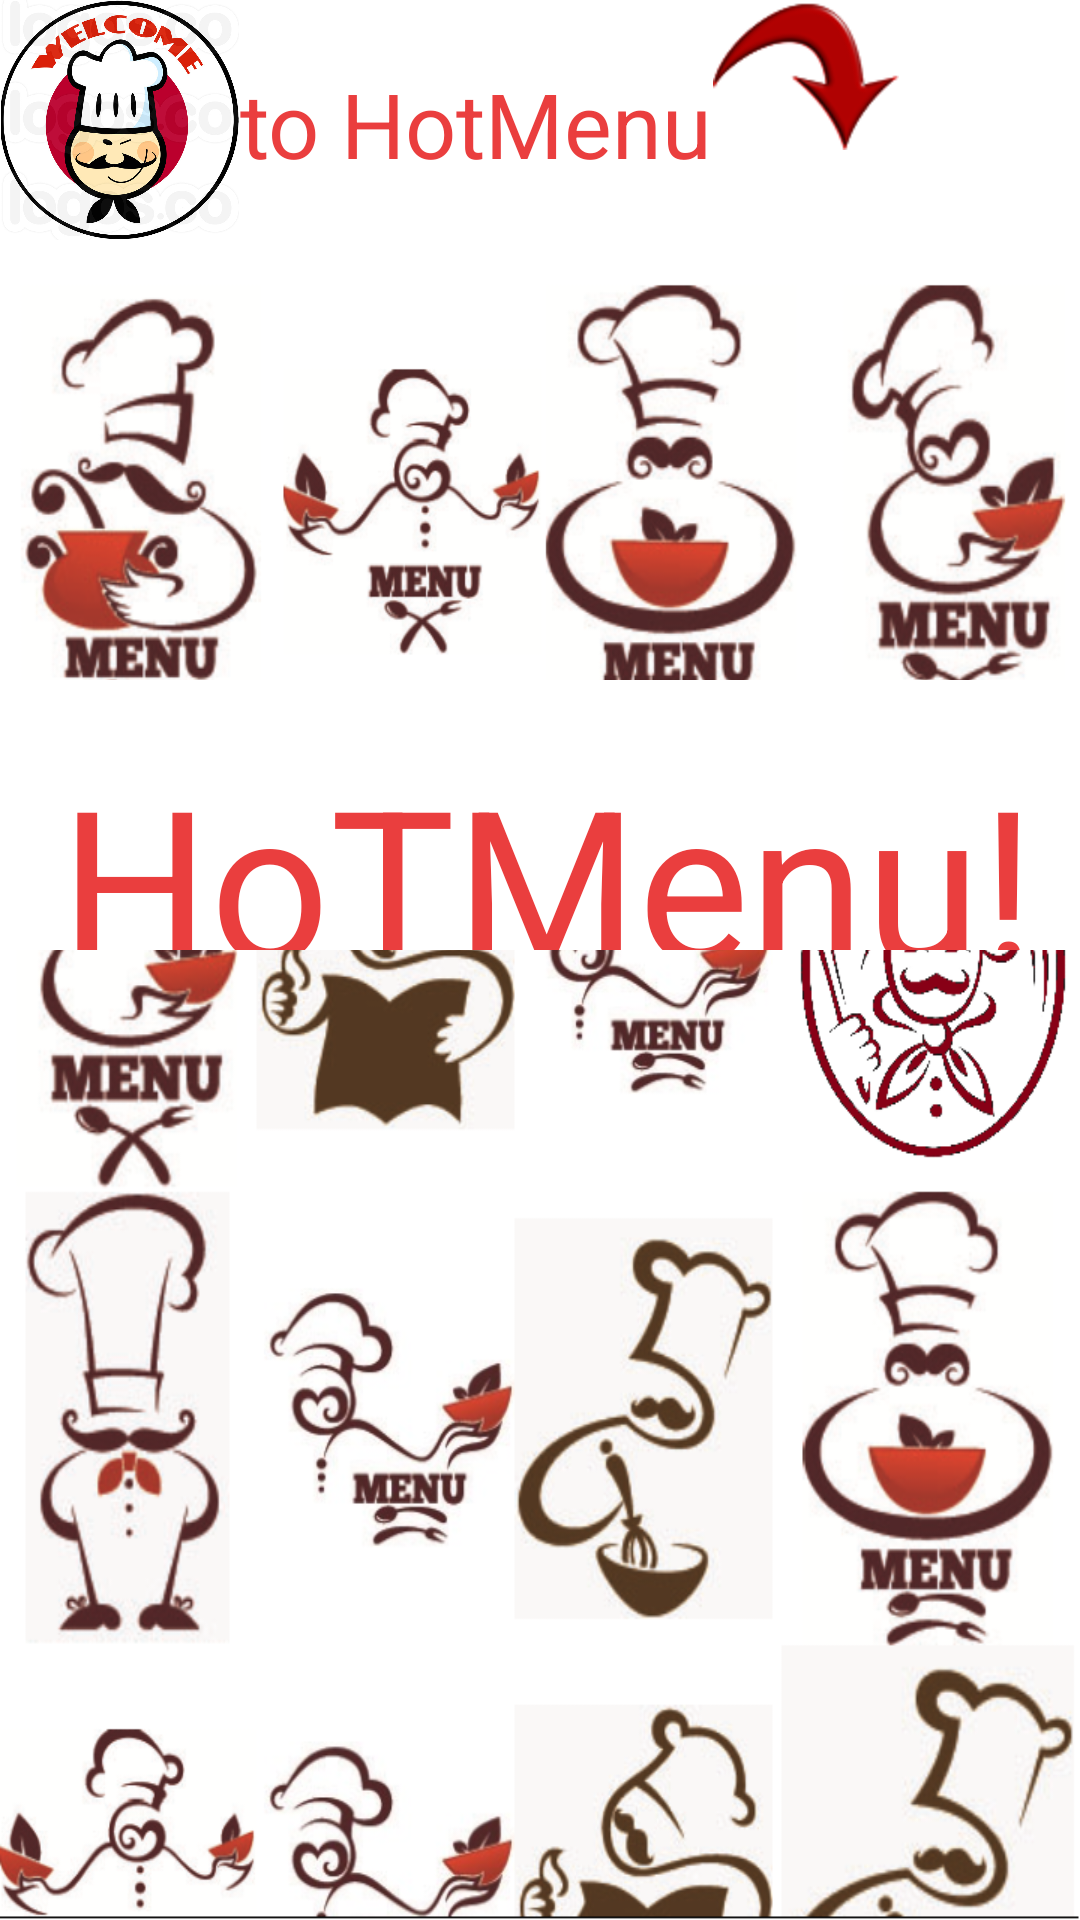

Named icons in this screenshot (1080 × 1920) and their centers, (x,y):
arrow: (806,76)
